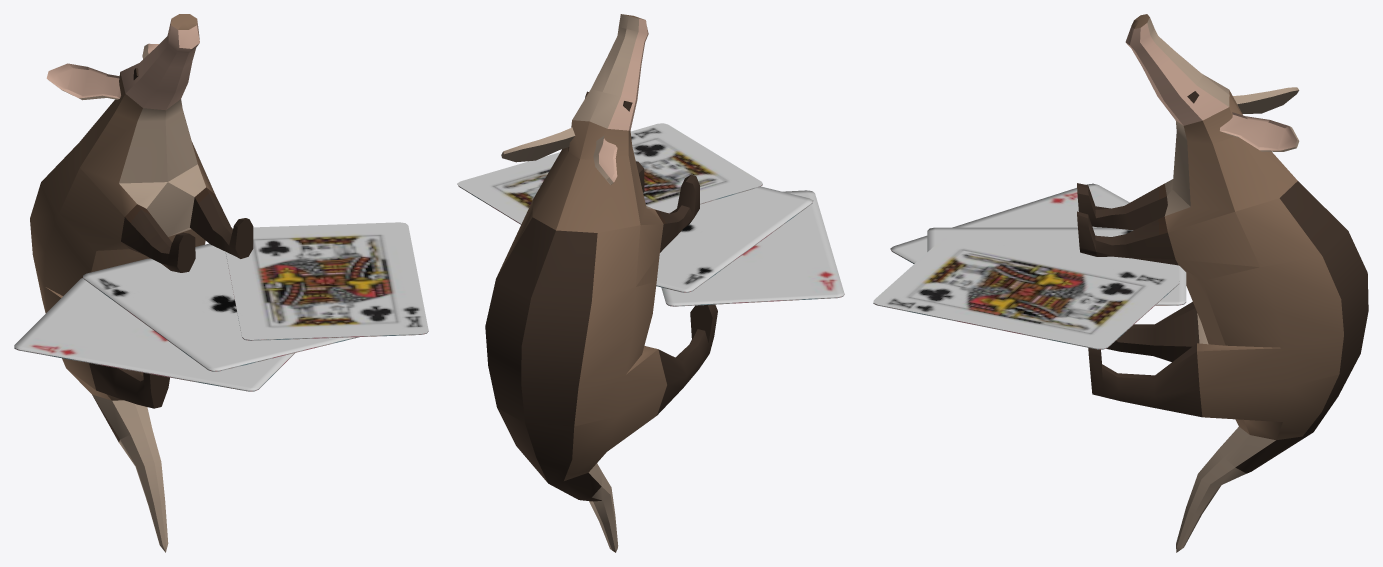
Rendered from caardvark_icon.glb.
3 renders of one model, left to right at view 1: azimuth 30°, elevation 25°; view 2: azimuth 150°, elevation 25°; view 3: azimuth 270°, elevation 25°, orthographic. The views are drawn at different scales.
Visible parts, largest first — view 1: Group, Aardvark; view 2: Aardvark, Group; view 3: Aardvark, Group.
Boxes of the visible parts, <box> form: Group: <box>14,222,428,391</box>; Aardvark: <box>30,14,253,552</box>; Aardvark: <box>485,14,717,552</box>; Group: <box>457,123,844,306</box>; Aardvark: <box>1077,14,1368,552</box>; Group: <box>873,183,1186,349</box>.
Size of the model in its own units: 0.0311 by 0.0412 by 0.0345.
4 materials, 4 textured.
